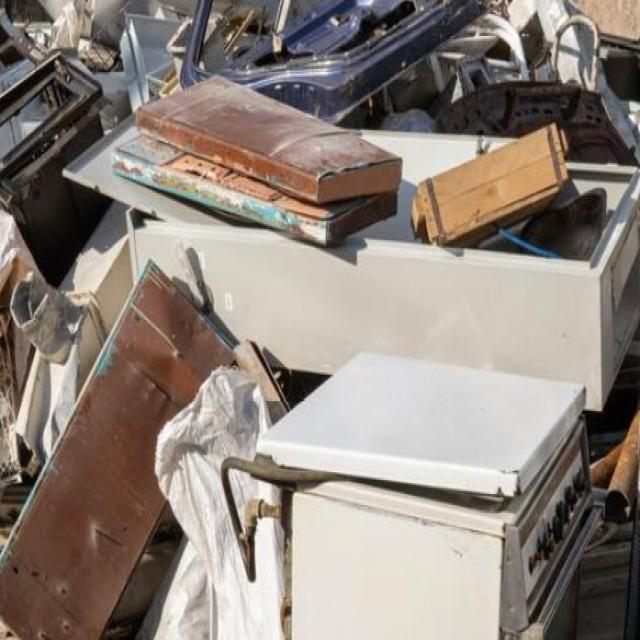electronic: (242, 328, 608, 640), (5, 222, 200, 640), (122, 40, 397, 312)
